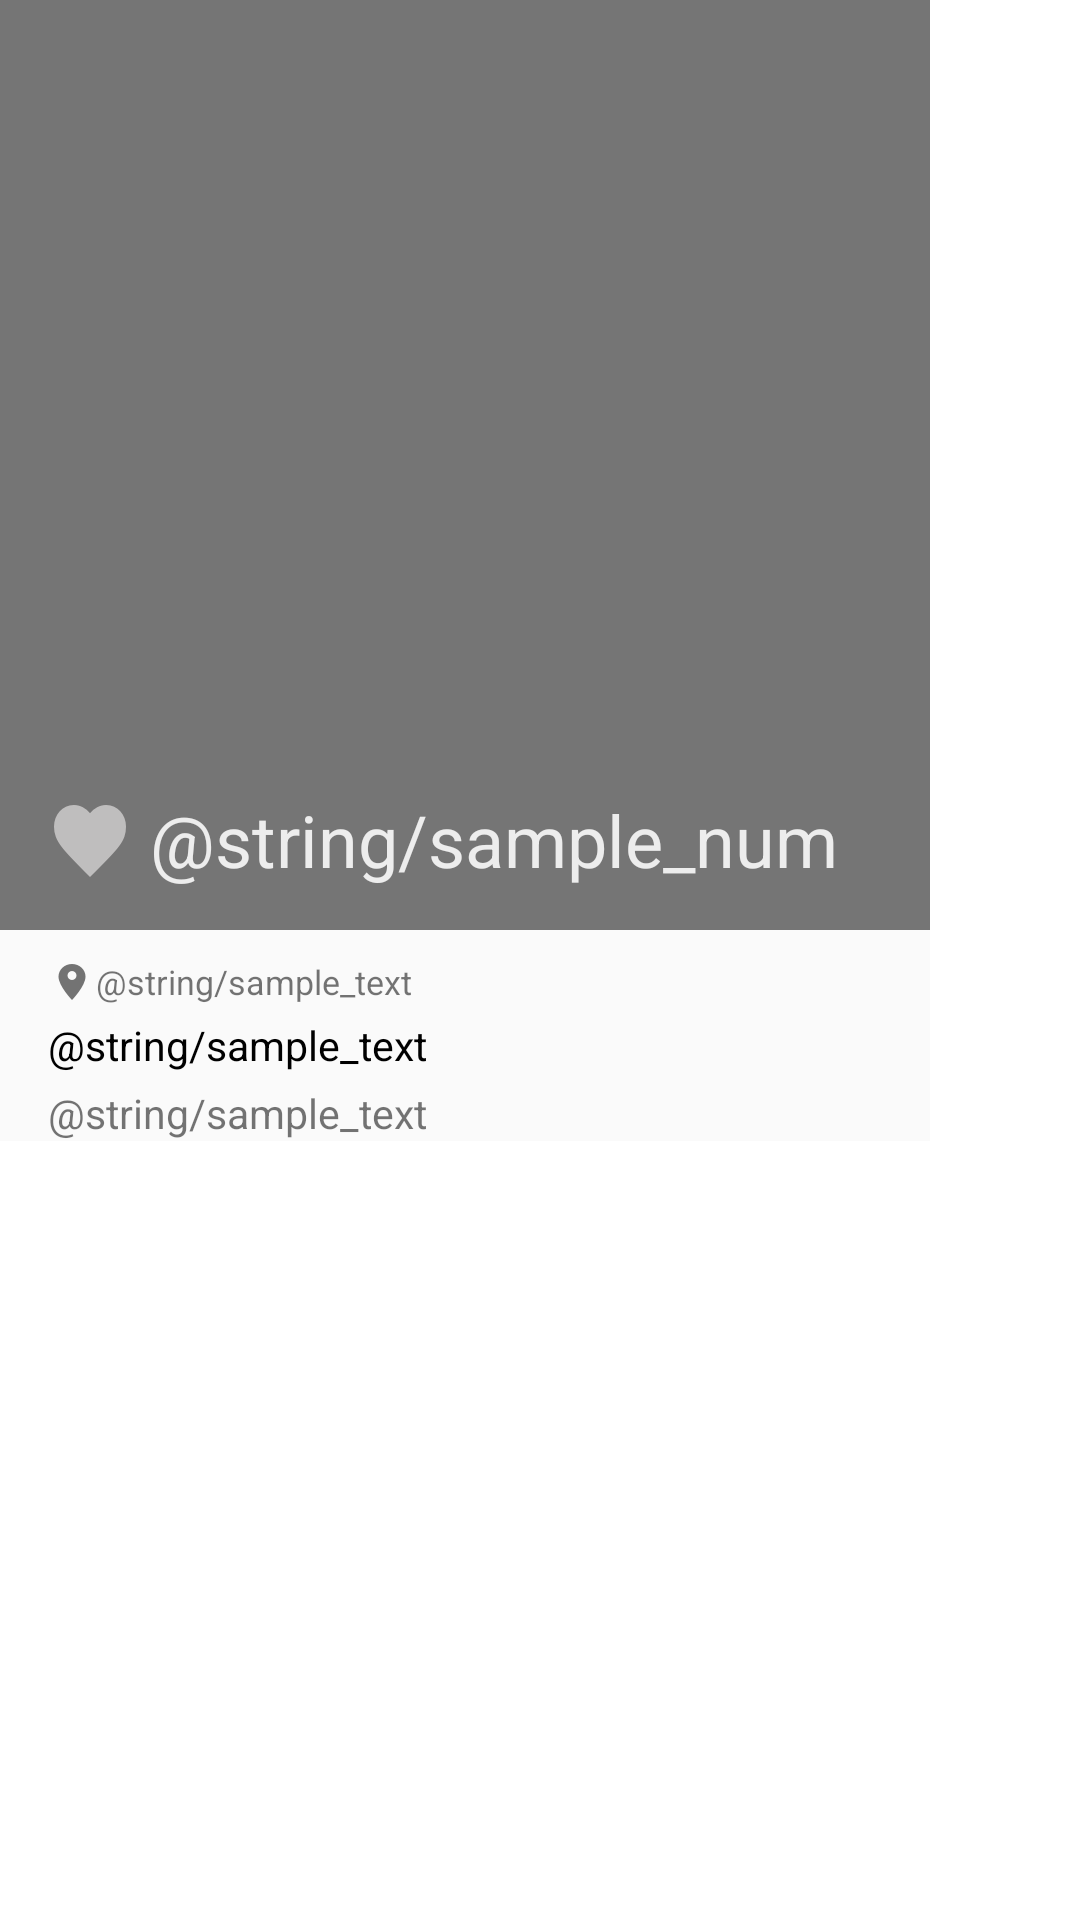

Named icons in this screenshot (1080x1920) and their centers, (x=x, y=y):
ci location: (x=72, y=982)
likes: (x=90, y=841)
